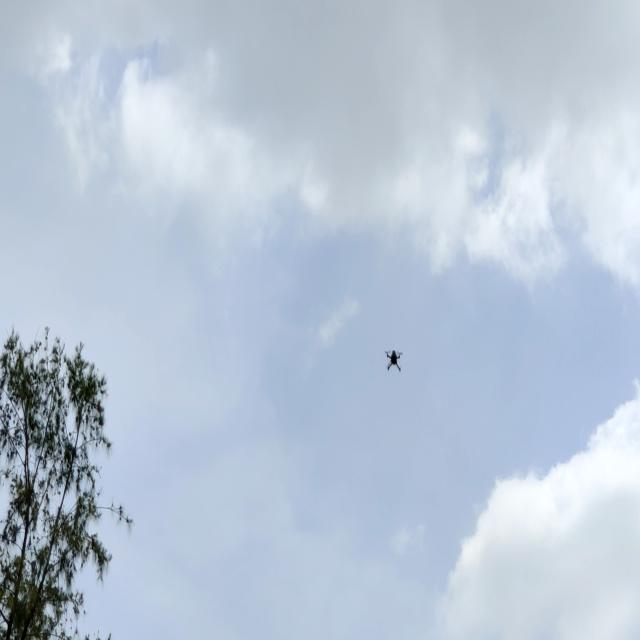drone: (379, 337, 408, 382)
